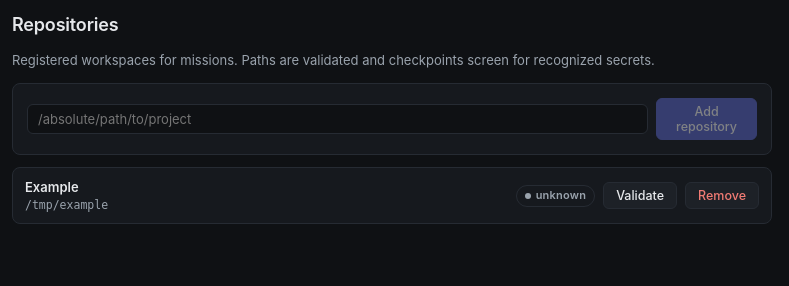
Scenario: repository controls › reports validation failure instead of losing the action
Expected: the field named "Repository path" is shown, left=27, top=104, right=648, bottom=134
Click the button "Validate": [640, 196] box left=603, top=182, right=677, bottom=209
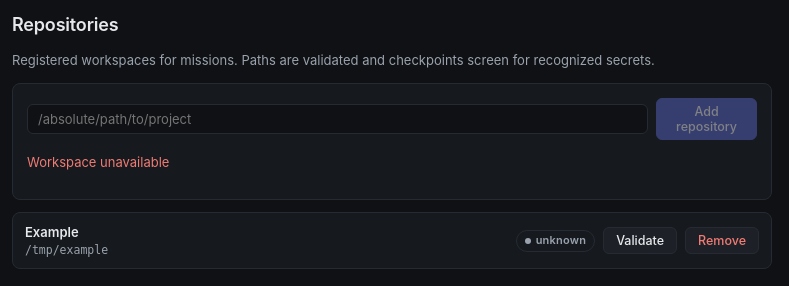
Now the message reads "Workspace unavailable", box left=27, top=154, right=169, bottom=170
